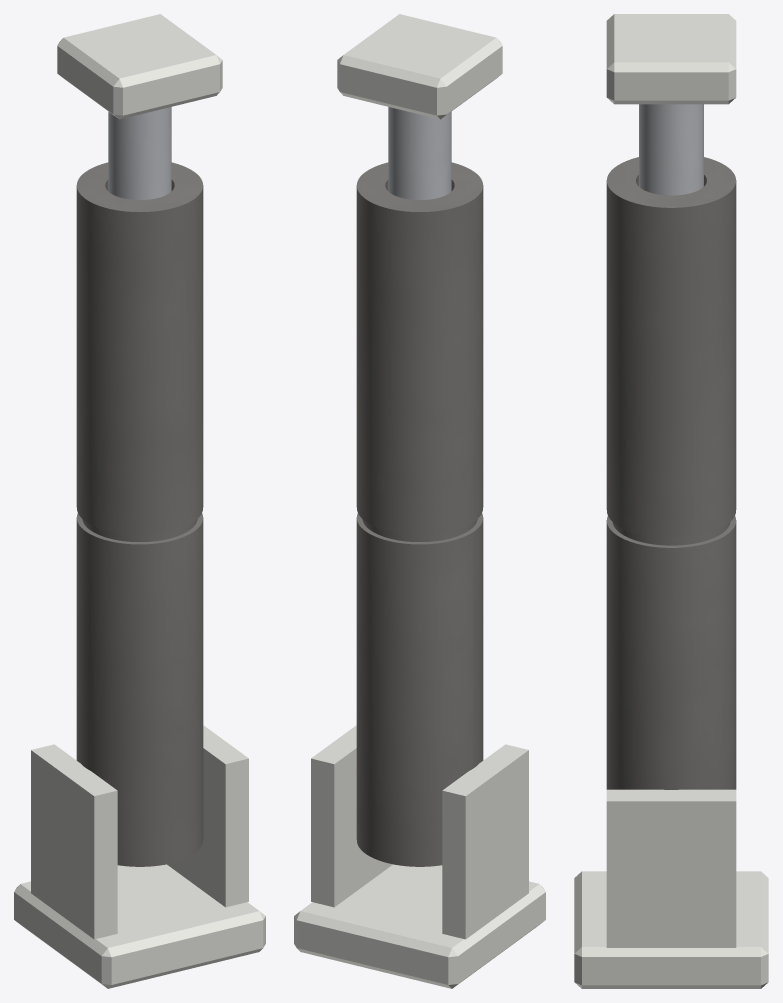
File: ax_util_14_linear_actuator_m.glb
3 views of the same model, side by side, from view 1: azimuth 30°, elevation 25°; view 2: azimuth 150°, elevation 25°; view 3: azimuth 270°, elevation 25° (orthographic). The views are drawn at different scales.
Parts seen in each view (by area): view 1: cylinder, base_clevis, rod_eye, rod; view 2: cylinder, base_clevis, rod_eye, rod; view 3: cylinder, base_clevis, rod_eye, rod.
Boxes of the visible parts, bbox=[...] form: cylinder: bbox=[76, 162, 203, 866]; base_clevis: bbox=[14, 725, 265, 988]; rod_eye: bbox=[57, 14, 222, 119]; rod: bbox=[108, 107, 171, 199]; cylinder: bbox=[356, 162, 483, 866]; base_clevis: bbox=[294, 725, 545, 988]; rod_eye: bbox=[337, 14, 502, 119]; rod: bbox=[388, 107, 451, 199]; cylinder: bbox=[606, 157, 736, 789]; base_clevis: bbox=[574, 789, 768, 988]; rod_eye: bbox=[606, 14, 736, 104]; rod: bbox=[639, 104, 703, 195].
Size of the model in its own units: 0.21 by 1.09 by 0.21.
Materials: 3 (2 with a texture image).
